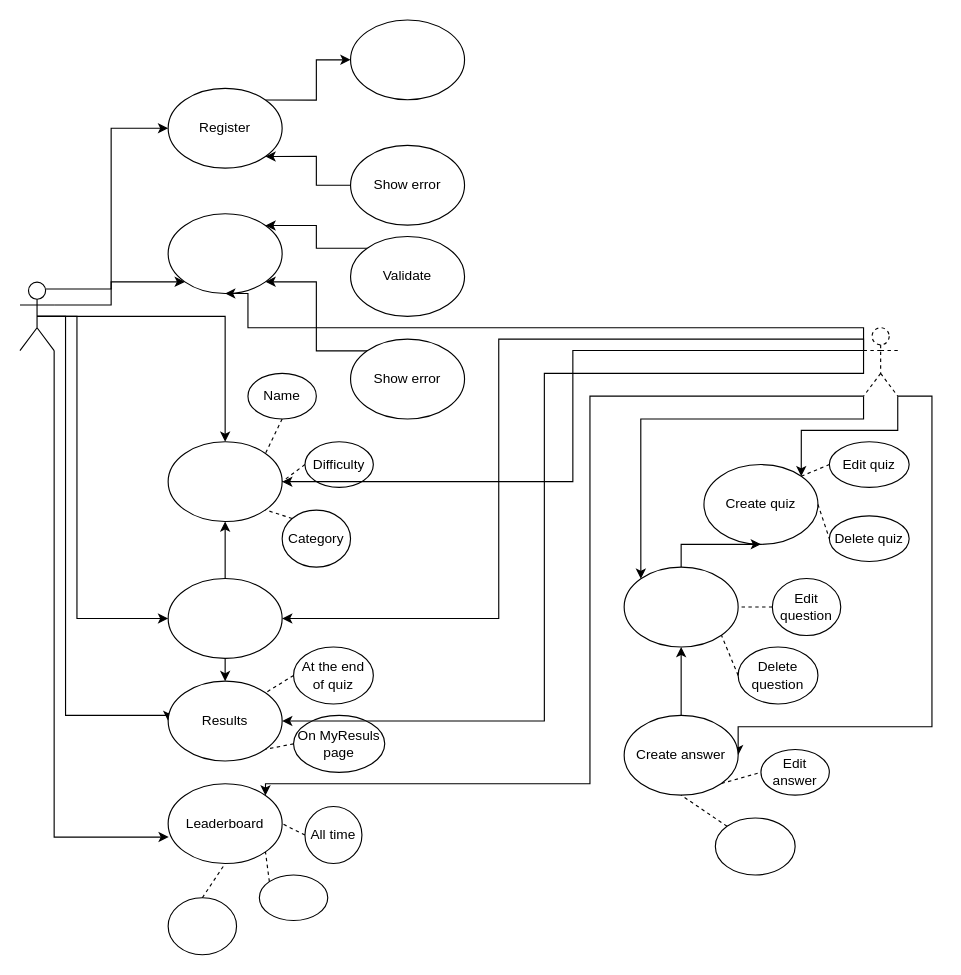
This 961x975 diagram has some shape labels left out. Each missing label, with the box of its shape:
Admin: (862, 327, 898, 396)
Create question: (623, 566, 738, 647)
Delete answer: (714, 817, 795, 875)
Login: (167, 213, 282, 294)
Monthly: (167, 897, 237, 955)
Search quizzes: (167, 441, 282, 522)
Start quiz: (167, 577, 282, 658)
User: (19, 281, 54, 351)
Ver ify: (349, 19, 465, 100)
Weekly: (258, 874, 328, 921)
